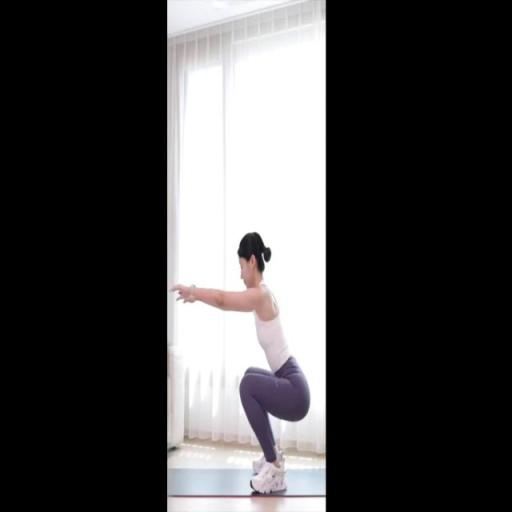Normal_BrenchPress: (172, 232, 311, 496)
